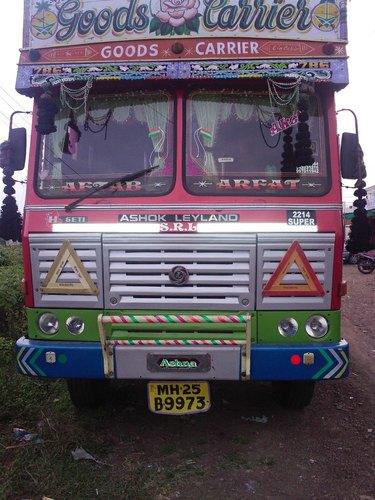doublelinenumberplate: (147, 379, 212, 415)
